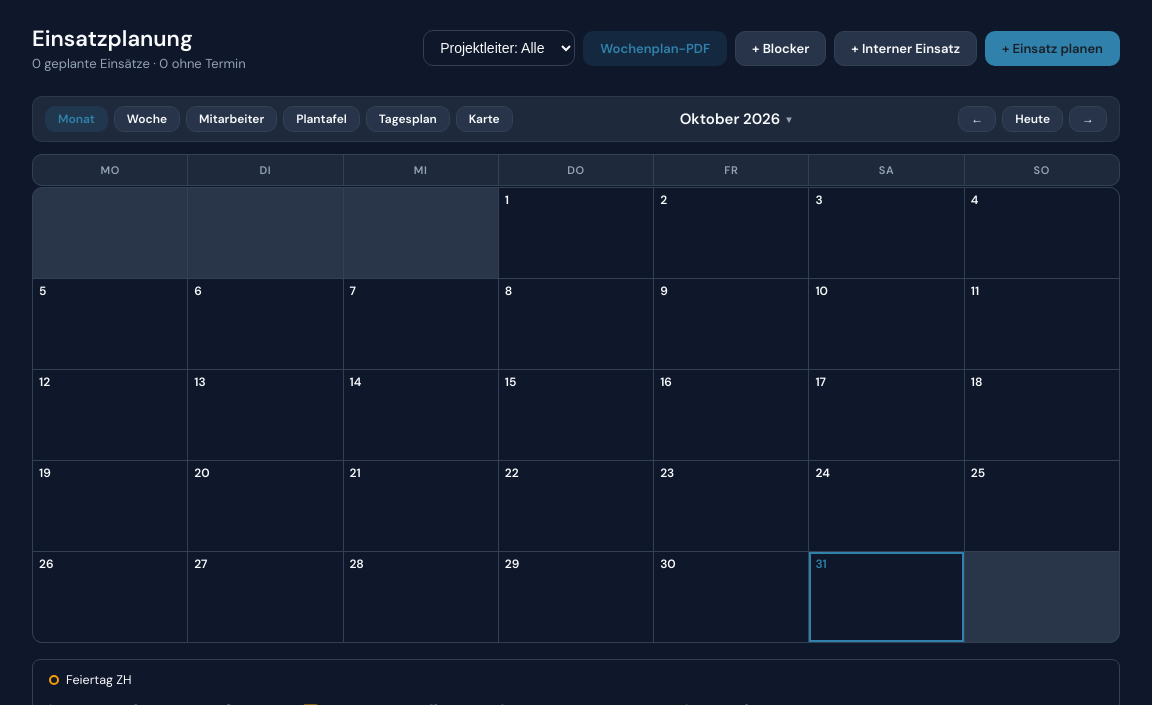
Blocker mit Kategorien › bietet die konfigurierten Kategorien zur Auswahl an
Click the button "+ Blocker".
click(781, 48)  # box [735, 30, 826, 66]
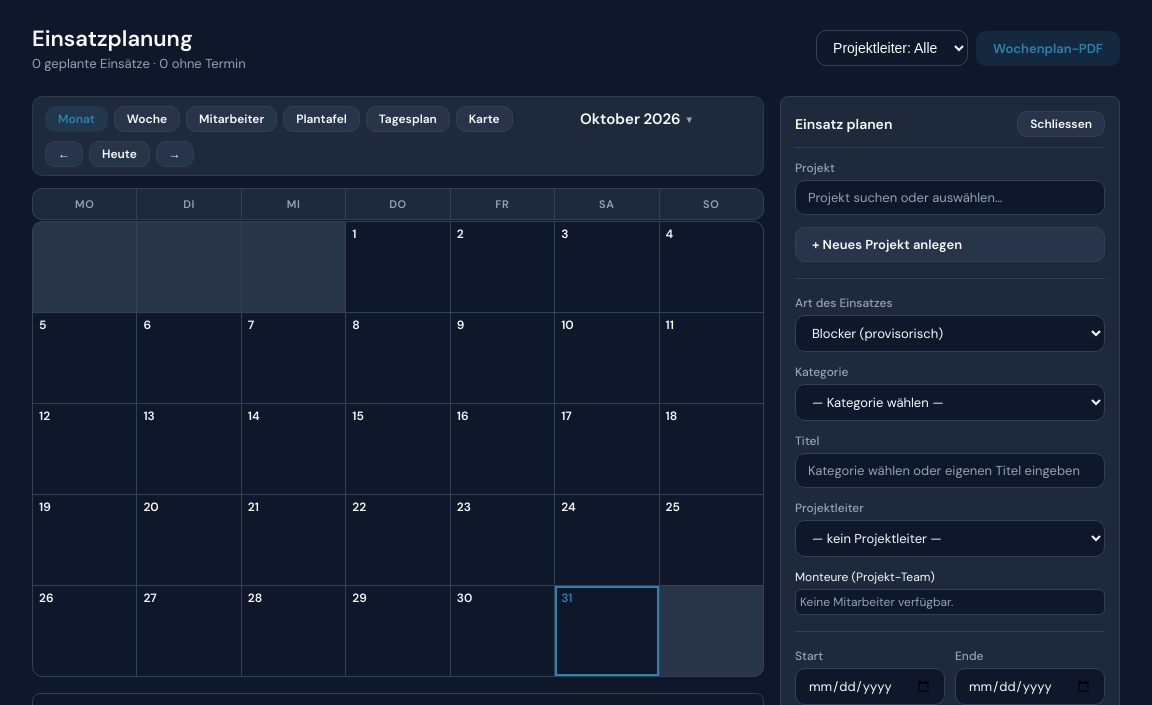
Now the dropdown labelled "Kategorie" shows "— Kategorie wählen —", box [795, 384, 1105, 421]
